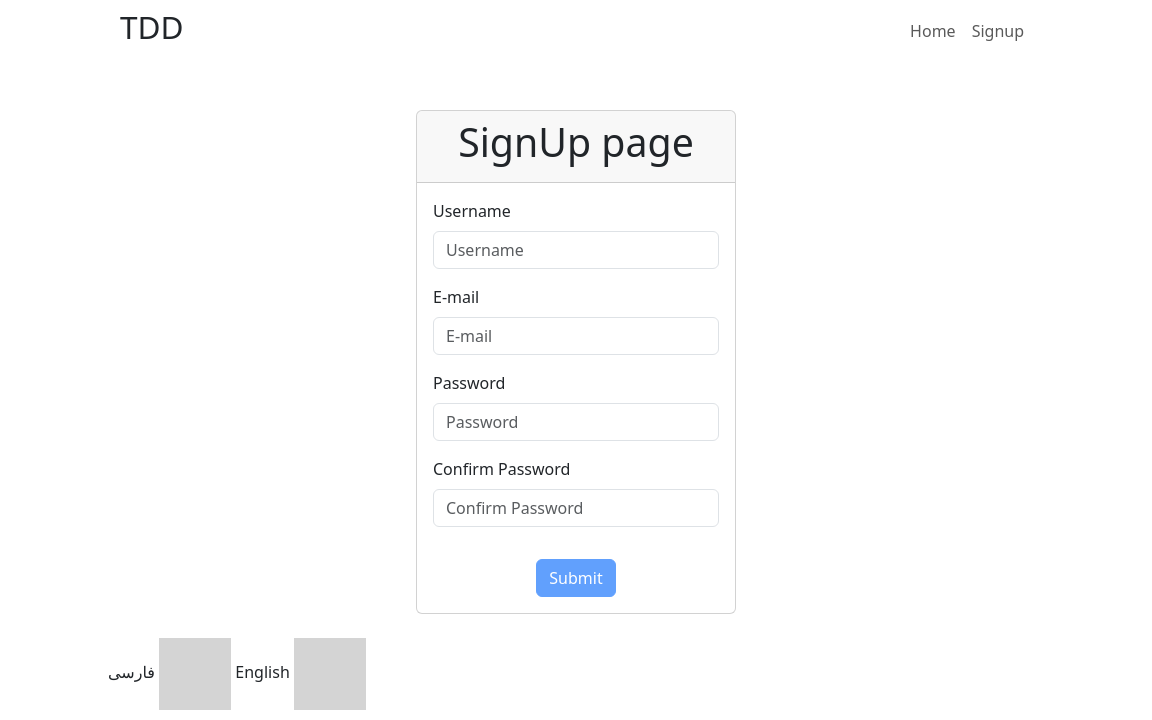
it: App Routing › displays home page after click header h2
Click the link "TDD".
click(152, 31)  # box [120,8,184,54]
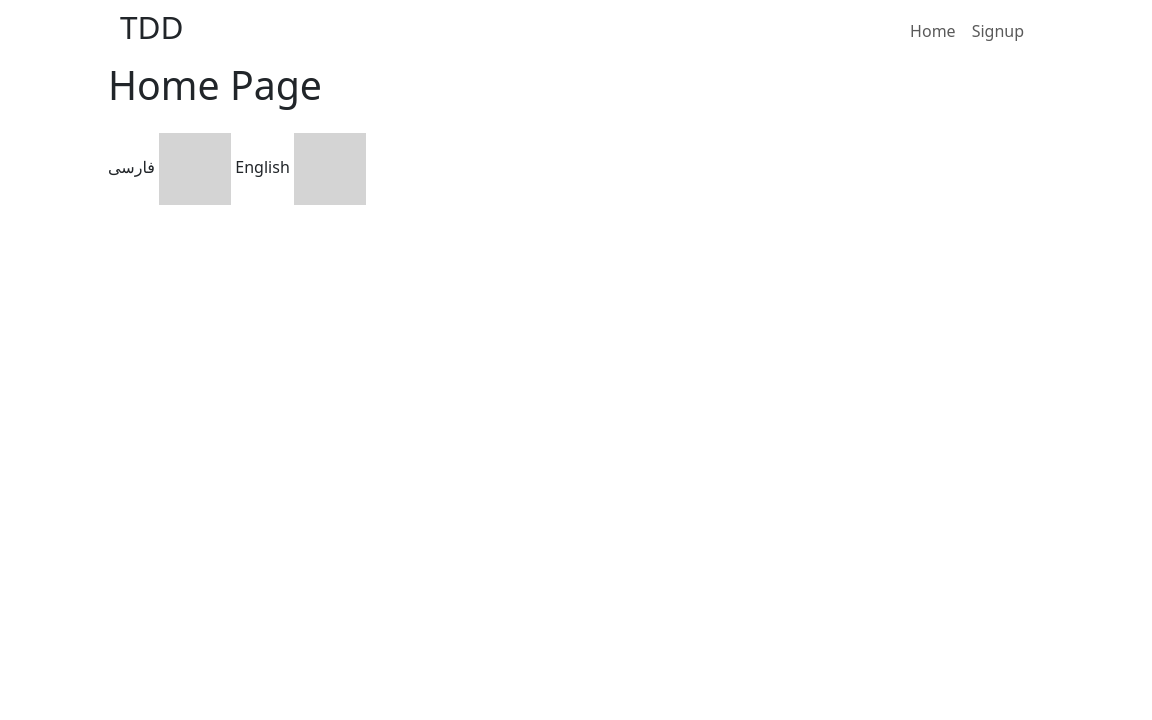
Result: the element with test id "home-page" is shown at [108,58,322,112]
